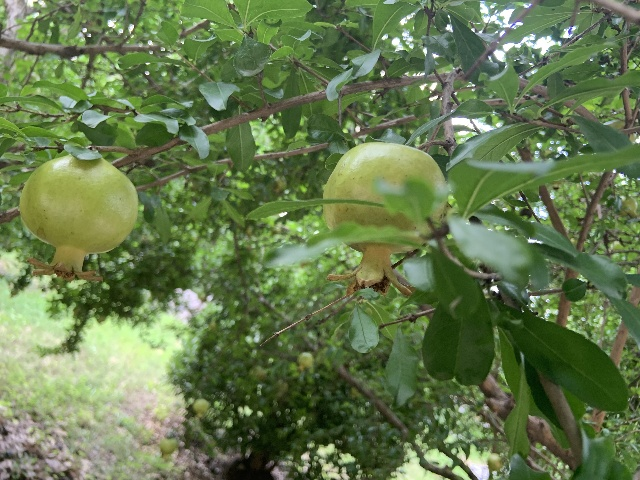mid-growth: (320, 141, 447, 299), (19, 153, 138, 282), (158, 438, 176, 460), (295, 351, 313, 373), (486, 453, 502, 473), (193, 398, 209, 418)
